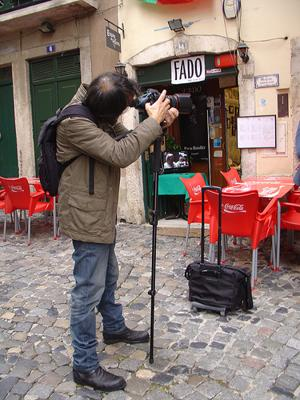person: (56, 71, 180, 393)
